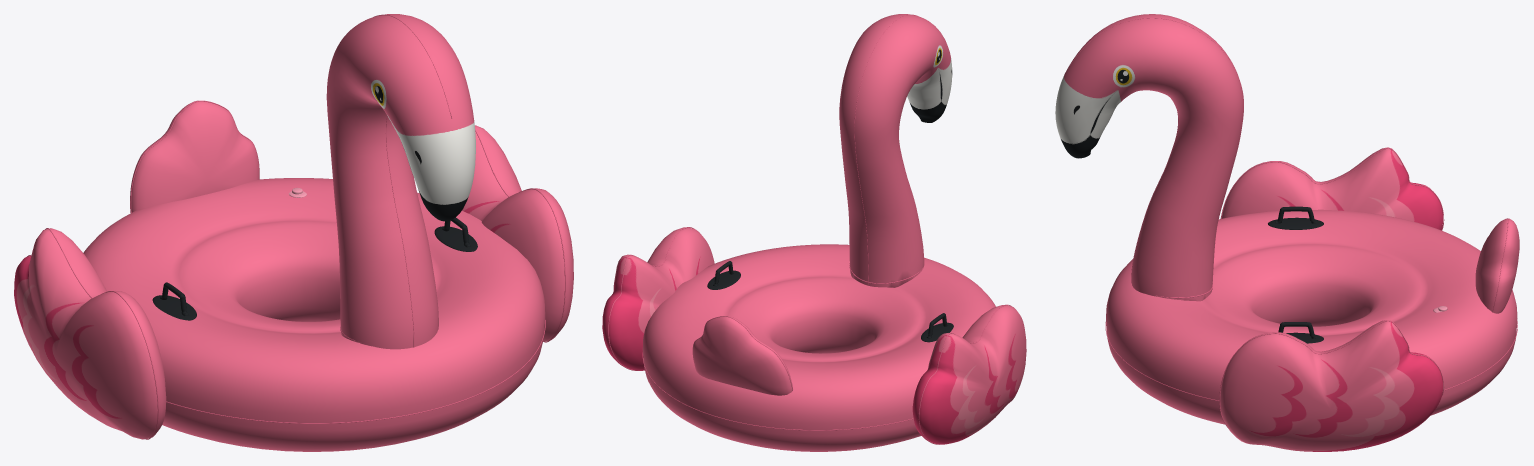
Rendered from flamingo_floatie.glb.
3 renders of one model, left to right at view 1: azimuth 30°, elevation 25°; view 2: azimuth 150°, elevation 25°; view 3: azimuth 270°, elevation 25°, orthographic. The views are drawn at different scales.
Parts seen in each view (by area): view 1: 01 • Inflated body / open center, 02 • Continuous neck, head, and beak, 04 • Left scalloped wing, 03 • Right scalloped wing, 05 • Upright tail fan, Right handle • welded mounting pad, Left handle • welded mounting pad, Body • outer welded seam; view 2: 01 • Inflated body / open center, 02 • Continuous neck, head, and beak, 04 • Left scalloped wing, 03 • Right scalloped wing, 05 • Upright tail fan; view 3: 01 • Inflated body / open center, 02 • Continuous neck, head, and beak, 03 • Right scalloped wing, 04 • Left scalloped wing, 05 • Upright tail fan, Left handle • welded mounting pad, Right wing • welded perimeter.
Boxes of the visible parts, <box> form: 01 • Inflated body / open center: <box>83,178,545,451</box>; 02 • Continuous neck, head, and beak: <box>326,14,475,349</box>; 04 • Left scalloped wing: <box>14,228,166,439</box>; 03 • Right scalloped wing: <box>462,125,573,341</box>; 05 • Upright tail fan: <box>130,100,259,212</box>; Right handle • welded mounting pad: <box>434,226,477,251</box>; Left handle • welded mounting pad: <box>152,295,196,320</box>; Body • outer welded seam: <box>166,320,545,423</box>; 01 • Inflated body / open center: <box>642,244,995,451</box>; 02 • Continuous neck, head, and beak: <box>839,14,952,287</box>; 04 • Left scalloped wing: <box>912,305,1026,444</box>; 03 • Right scalloped wing: <box>602,227,714,370</box>; 05 • Upright tail fan: <box>692,316,792,395</box>; 01 • Inflated body / open center: <box>1106,209,1517,424</box>; 02 • Continuous neck, head, and beak: <box>1055,14,1243,301</box>; 03 • Right scalloped wing: <box>1220,320,1442,451</box>; 04 • Left scalloped wing: <box>1221,147,1442,230</box>; 05 • Upright tail fan: <box>1475,218,1519,313</box>; Left handle • welded mounting pad: <box>1268,217,1323,229</box>; Right wing • welded perimeter: <box>1219,320,1444,427</box>.
Size of the model in its own units: 2.34 by 1.97 by 2.35.
Materials: 7 (2 with a texture image).
